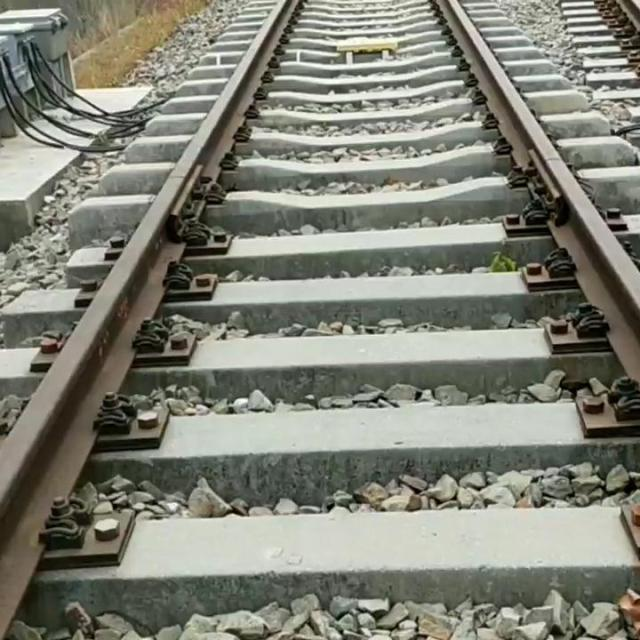rail: (0, 0, 297, 640), (439, 0, 640, 381)
